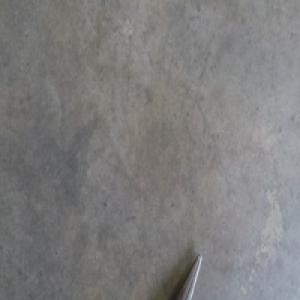Pliers: (175, 254, 202, 298)
